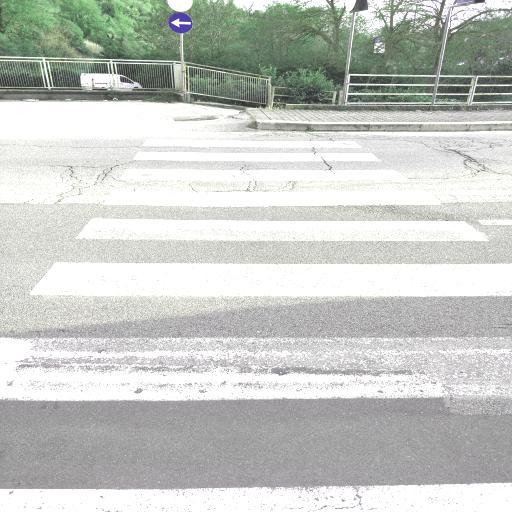crosswalk: (64, 186, 496, 252), (132, 134, 384, 166)
